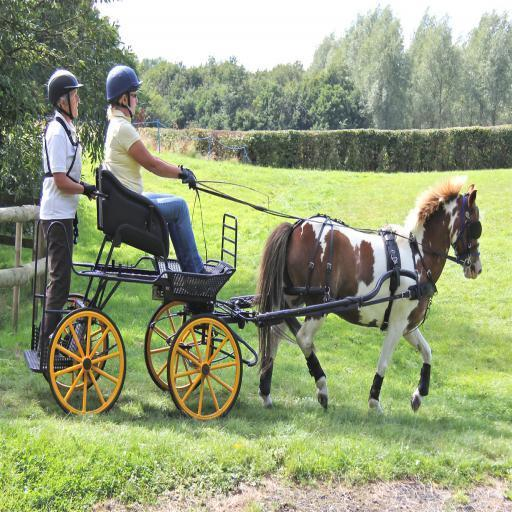horse: (252, 178, 484, 417)
